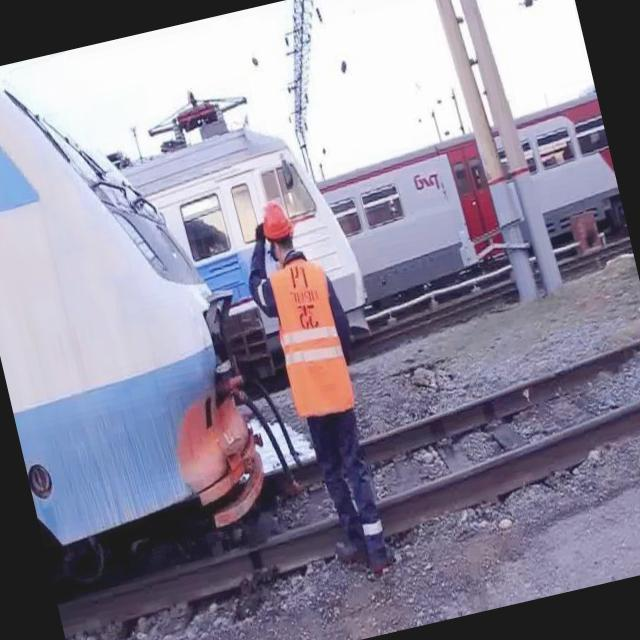vest: (260, 253, 359, 427)
